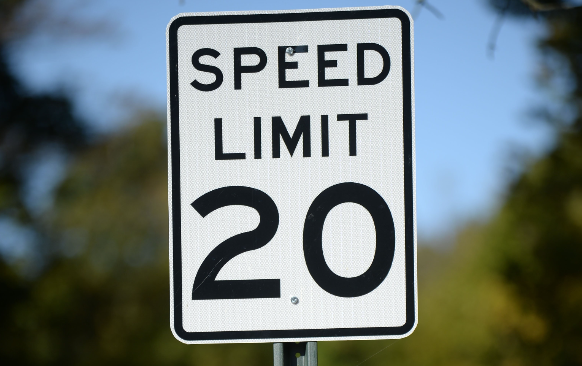speed limit: (159, 1, 426, 350)
